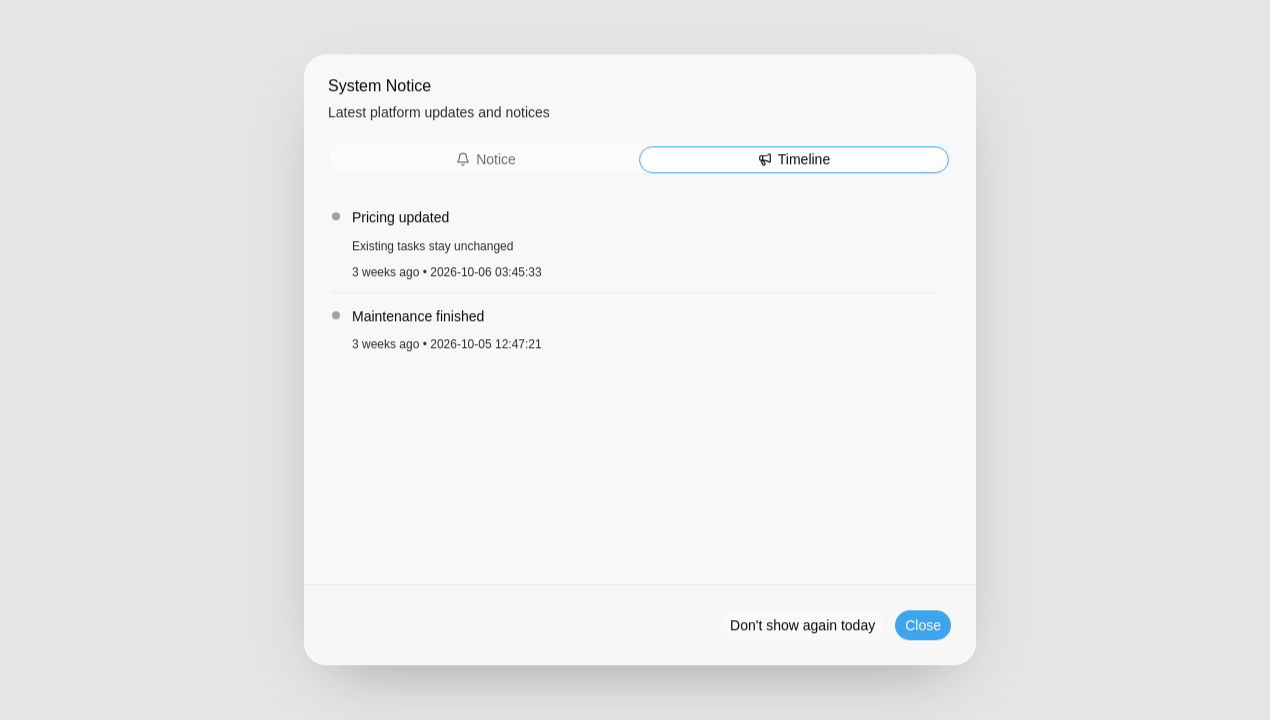
Scenario: 不刷新页面时自动获取新公告，检查失败不重弹，卸载后停止检查
Click the button "Close".
click(923, 626)  # box [894,610,952,642]
Wait 120000 ms
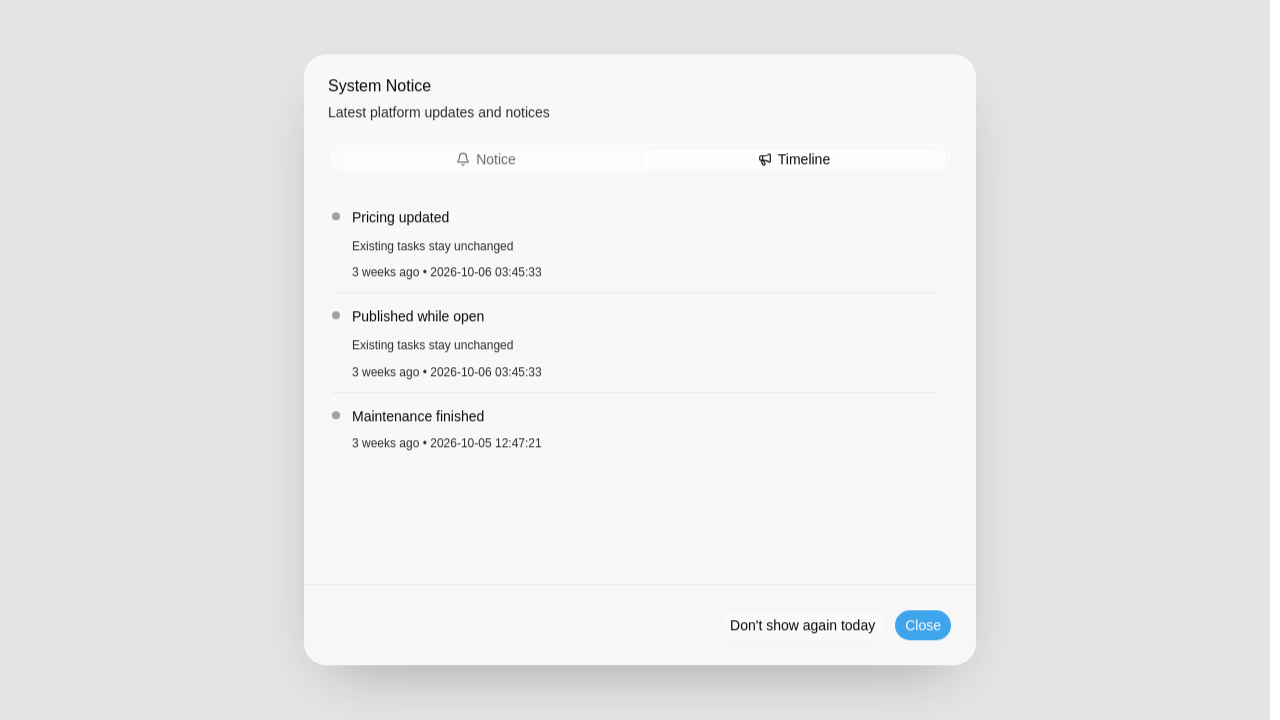
Check: the text "Published while open" is shown, box [352,309,484,325]
